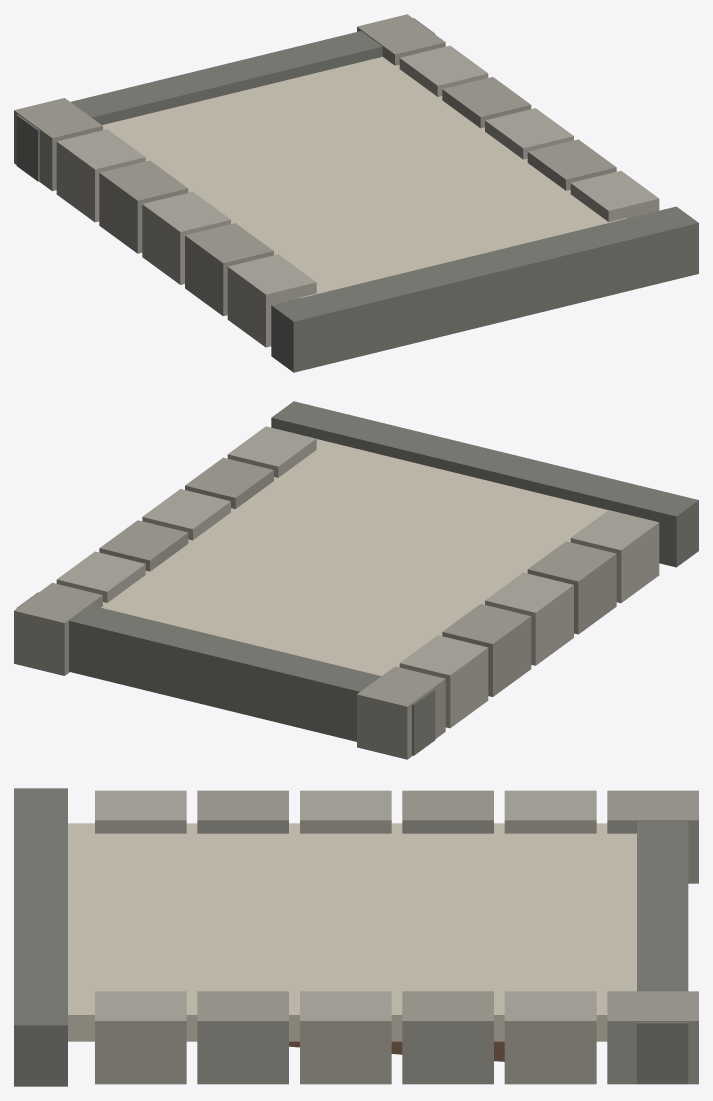
Rendered from tier05_dressed_stone_wall.glb.
The picture shows the model from 3 angles, top to bottom: view 1: azimuth 30°, elevation 25°; view 2: azimuth 150°, elevation 25°; view 3: azimuth 270°, elevation 25°; orthographic projection. The views are drawn at different scales.
Visible parts, largest first — view 1: tier05_dressed_stone_wall_000, tier05_dressed_stone_wall_013, tier05_dressed_stone_wall_014, tier05_dressed_stone_wall_006, tier05_dressed_stone_wall_003, tier05_dressed_stone_wall_002, tier05_dressed_stone_wall_004, tier05_dressed_stone_wall_005, tier05_dressed_stone_wall_001, tier05_dressed_stone_wall_012, tier05_dressed_stone_wall_008, tier05_dressed_stone_wall_011 (+3 smaller); view 2: tier05_dressed_stone_wall_000, tier05_dressed_stone_wall_014, tier05_dressed_stone_wall_013, tier05_dressed_stone_wall_001, tier05_dressed_stone_wall_007, tier05_dressed_stone_wall_002, tier05_dressed_stone_wall_003, tier05_dressed_stone_wall_006, tier05_dressed_stone_wall_005, tier05_dressed_stone_wall_004, tier05_dressed_stone_wall_009, tier05_dressed_stone_wall_008 (+3 smaller); view 3: tier05_dressed_stone_wall_000, tier05_dressed_stone_wall_013, tier05_dressed_stone_wall_014, tier05_dressed_stone_wall_008, tier05_dressed_stone_wall_009, tier05_dressed_stone_wall_010, tier05_dressed_stone_wall_011, tier05_dressed_stone_wall_012, tier05_dressed_stone_wall_007, tier05_dressed_stone_wall_002, tier05_dressed_stone_wall_003, tier05_dressed_stone_wall_004 (+3 smaller).
Boxes of the visible parts, x1,y1,x2,y2 form: tier05_dressed_stone_wall_000: [102, 56, 626, 298]; tier05_dressed_stone_wall_013: [271, 206, 698, 372]; tier05_dressed_stone_wall_014: [16, 18, 434, 181]; tier05_dressed_stone_wall_006: [227, 254, 316, 347]; tier05_dressed_stone_wall_003: [99, 160, 188, 253]; tier05_dressed_stone_wall_002: [56, 129, 145, 222]; tier05_dressed_stone_wall_004: [142, 191, 230, 284]; tier05_dressed_stone_wall_005: [185, 223, 273, 316]; tier05_dressed_stone_wall_001: [14, 98, 102, 191]; tier05_dressed_stone_wall_012: [570, 170, 659, 221]; tier05_dressed_stone_wall_008: [399, 45, 488, 96]; tier05_dressed_stone_wall_011: [527, 139, 616, 190]; tier05_dressed_stone_wall_000: [101, 439, 608, 675]; tier05_dressed_stone_wall_014: [16, 592, 435, 755]; tier05_dressed_stone_wall_013: [271, 401, 698, 567]; tier05_dressed_stone_wall_001: [357, 666, 445, 759]; tier05_dressed_stone_wall_007: [14, 582, 102, 675]; tier05_dressed_stone_wall_002: [399, 635, 488, 728]; tier05_dressed_stone_wall_003: [442, 604, 531, 696]; tier05_dressed_stone_wall_006: [570, 510, 659, 603]; tier05_dressed_stone_wall_005: [527, 541, 616, 634]; tier05_dressed_stone_wall_004: [485, 572, 573, 665]; tier05_dressed_stone_wall_009: [99, 520, 188, 571]; tier05_dressed_stone_wall_008: [56, 551, 145, 602]; tier05_dressed_stone_wall_000: [68, 823, 636, 1041]; tier05_dressed_stone_wall_013: [14, 788, 67, 1086]; tier05_dressed_stone_wall_014: [637, 821, 688, 1084]; tier05_dressed_stone_wall_008: [504, 991, 596, 1084]; tier05_dressed_stone_wall_009: [402, 991, 493, 1084]; tier05_dressed_stone_wall_010: [300, 991, 391, 1084]; tier05_dressed_stone_wall_011: [197, 991, 288, 1084]; tier05_dressed_stone_wall_012: [95, 991, 186, 1084]; tier05_dressed_stone_wall_007: [607, 991, 698, 1084]; tier05_dressed_stone_wall_002: [504, 790, 596, 833]; tier05_dressed_stone_wall_003: [402, 790, 493, 833]; tier05_dressed_stone_wall_004: [300, 790, 391, 833].
Bounding box in the file's own units: 2.08 × 0.31 × 2.54.
